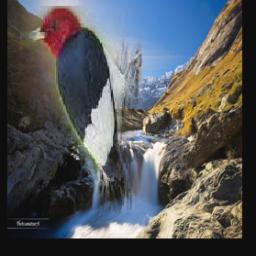Woodpecker: (21, 7, 143, 216)
